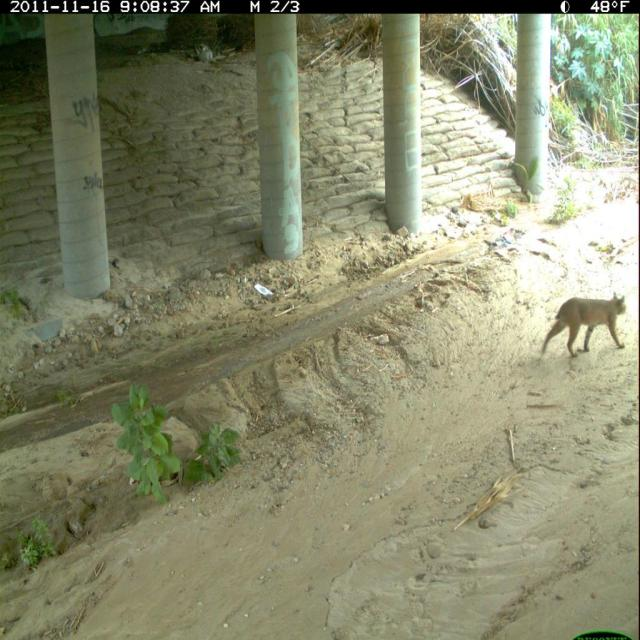bobcat: (540, 288, 630, 363)
